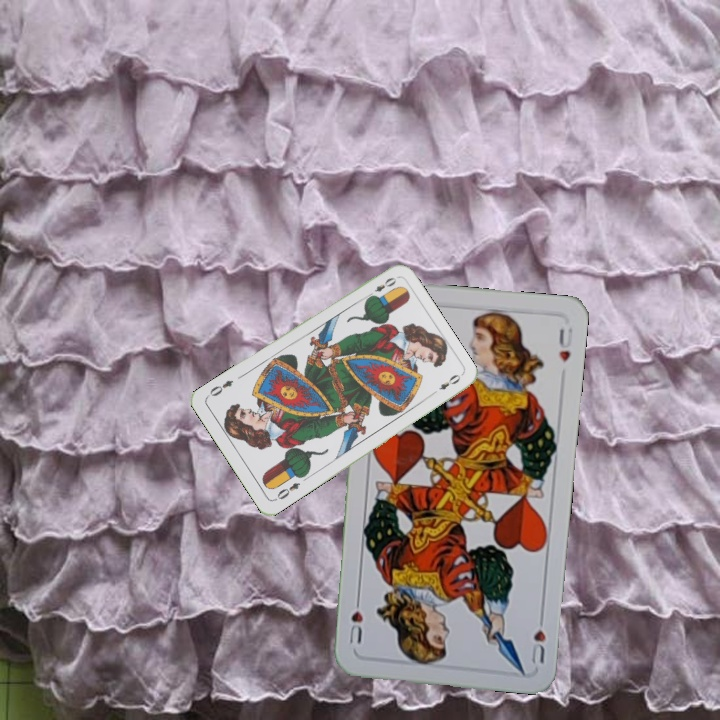EO: (363, 273, 399, 301), (270, 478, 303, 503)
HU: (527, 609, 549, 667)
